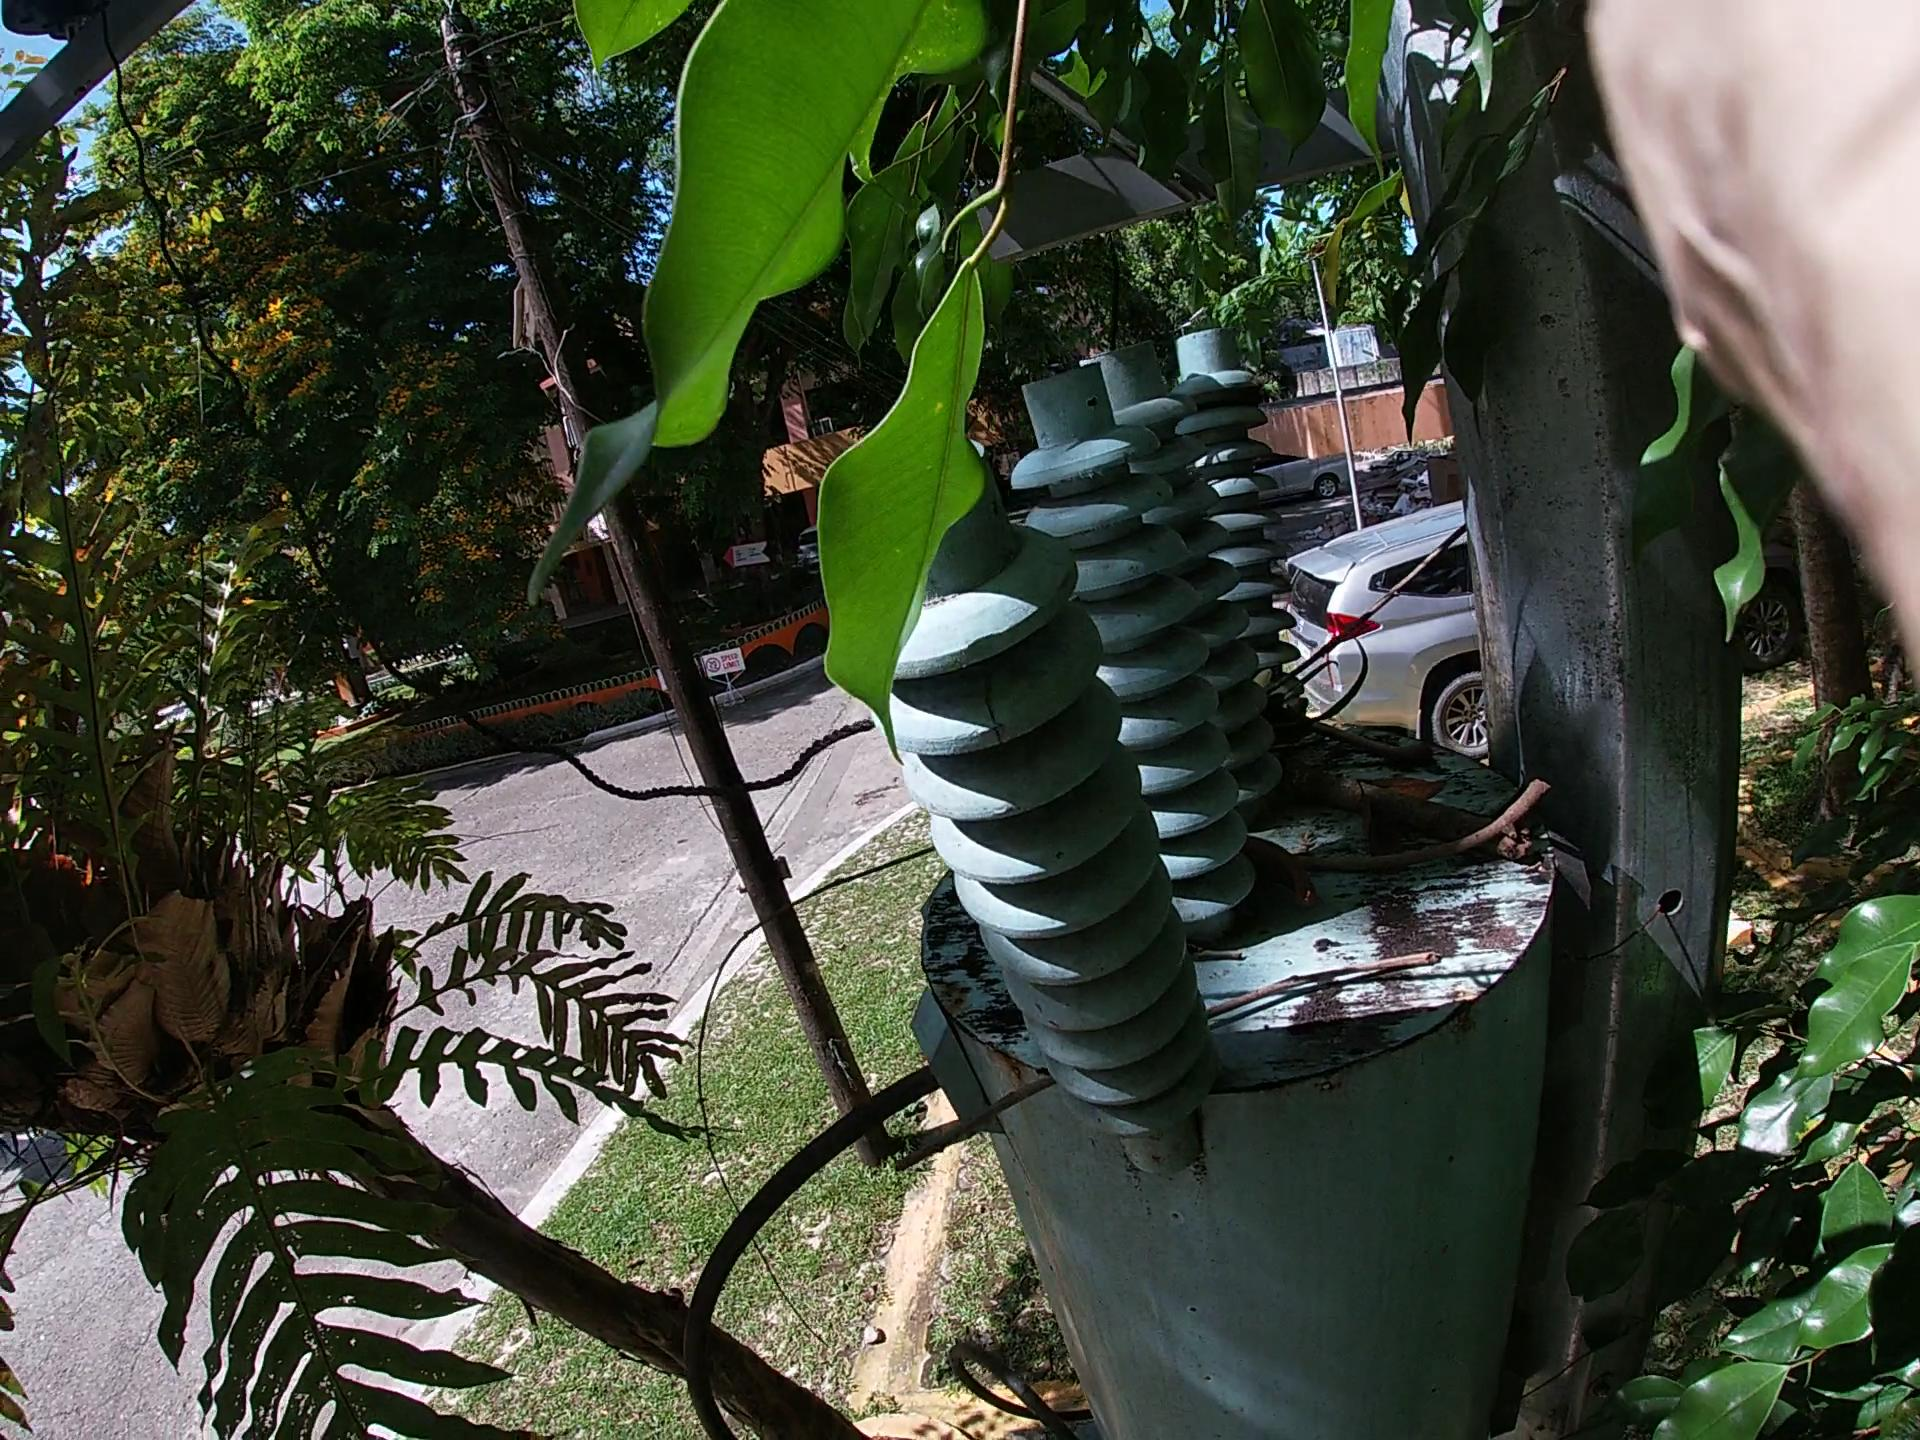leaf: (1364, 706, 1441, 830)
mahogany fruit: (1138, 557, 1305, 753)
tree branch: (556, 457, 1606, 1156), (848, 980, 1432, 1150), (1277, 729, 1640, 924), (1209, 806, 1615, 886)
